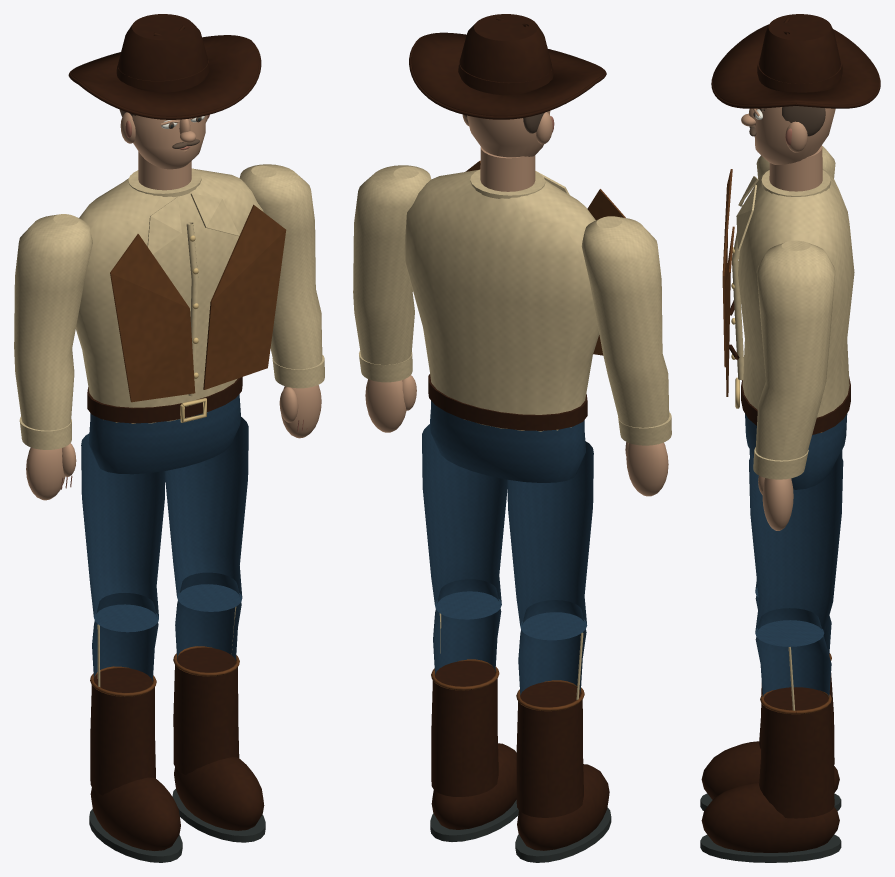
Rendered from Frontiersman.fbx.
The picture shows the model from 3 angles, left to right: view 1: azimuth 30°, elevation 25°; view 2: azimuth 150°, elevation 25°; view 3: azimuth 270°, elevation 25°; orthographic projection. The views are drawn at different scales.
Visible parts, largest first — view 1: TorsoMesh, HeadMesh, KneeLMesh, KneeRMesh, ArmLMesh, ArmRMesh, LegLMesh, LegRMesh, HipsMesh; view 2: TorsoMesh, HeadMesh, KneeLMesh, KneeRMesh, ArmLMesh, ArmRMesh, LegLMesh, LegRMesh, HipsMesh; view 3: KneeRMesh, HeadMesh, ArmRMesh, TorsoMesh, LegRMesh, HipsMesh, KneeLMesh, ArmLMesh.
Part boxes in pixels (x1=…): TorsoMesh: x1=76, y1=168, x2=286, y2=423; HeadMesh: x1=68, y1=14, x2=261, y2=190; KneeLMesh: x1=89, y1=593, x2=182, y2=862; KneeRMesh: x1=172, y1=572, x2=265, y2=842; ArmLMesh: x1=14, y1=214, x2=92, y2=500; ArmRMesh: x1=239, y1=164, x2=324, y2=438; LegLMesh: x1=81, y1=433, x2=165, y2=632; LegRMesh: x1=165, y1=417, x2=248, y2=611; HipsMesh: x1=87, y1=377, x2=242, y2=474; TorsoMesh: x1=404, y1=160, x2=625, y2=431; HeadMesh: x1=409, y1=14, x2=606, y2=191; KneeLMesh: x1=515, y1=600, x2=611, y2=862; KneeRMesh: x1=430, y1=579, x2=518, y2=841; ArmLMesh: x1=581, y1=216, x2=671, y2=496; ArmRMesh: x1=353, y1=165, x2=431, y2=432; LegLMesh: x1=507, y1=441, x2=593, y2=640; LegRMesh: x1=422, y1=424, x2=507, y2=619; HipsMesh: x1=428, y1=374, x2=587, y2=482; KneeRMesh: x1=700, y1=608, x2=841, y2=862; HeadMesh: x1=711, y1=14, x2=880, y2=191; ArmRMesh: x1=753, y1=240, x2=835, y2=530; TorsoMesh: x1=722, y1=169, x2=854, y2=432; LegRMesh: x1=749, y1=454, x2=843, y2=646; HipsMesh: x1=735, y1=376, x2=850, y2=489; KneeLMesh: x1=700, y1=590, x2=841, y2=810; ArmLMesh: x1=756, y1=146, x2=835, y2=178.
Bounding box in the file's own units: 71.6 × 184 × 37.1.
Materials: 10 (4 with a texture image).
